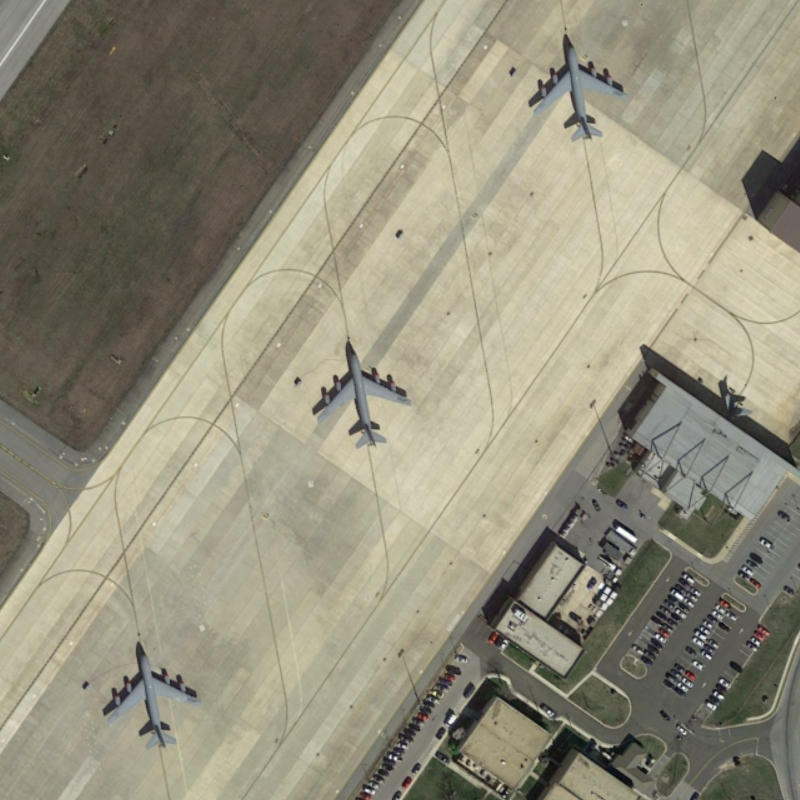A14: (96, 635, 208, 754), (522, 28, 632, 144), (308, 338, 415, 455)
